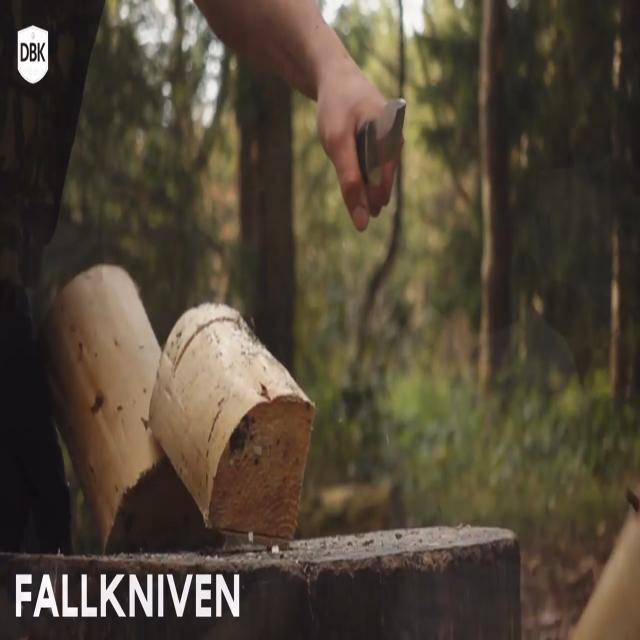knife: (366, 86, 407, 193)
